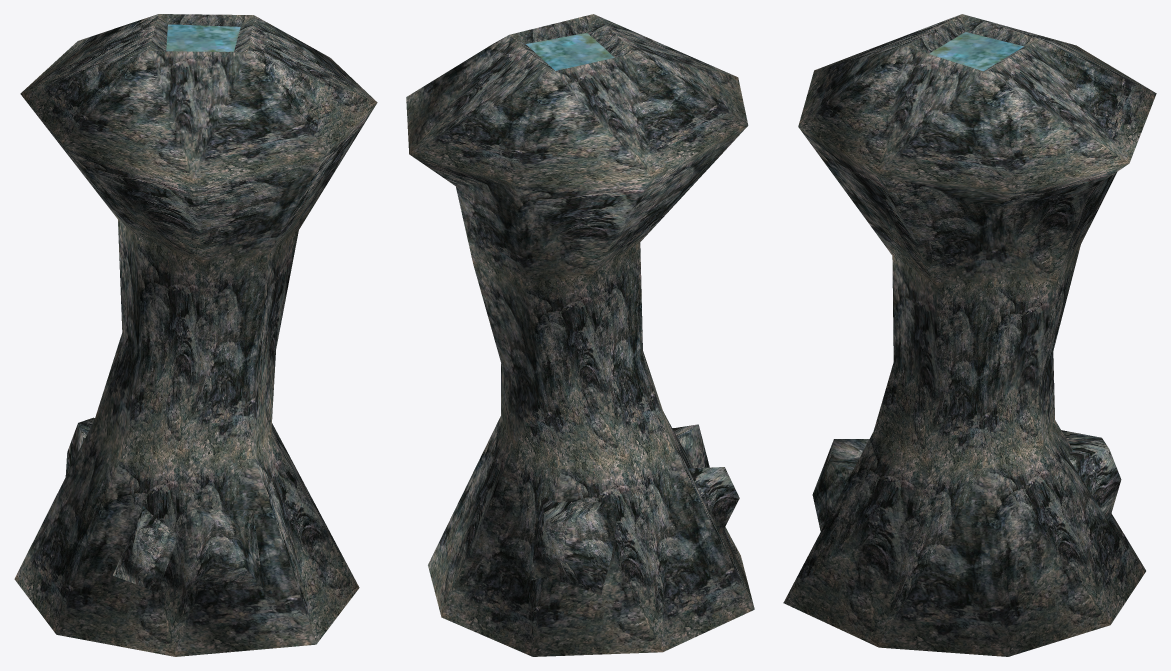
Rendered from rock_crystl_geyser_med_l3.fbx.
3 views of the same model, side by side, from view 1: azimuth 30°, elevation 25°; view 2: azimuth 150°, elevation 25°; view 3: azimuth 270°, elevation 25° (orthographic).
Visible parts, largest first — view 1: mesh_node; view 2: mesh_node; view 3: mesh_node.
Boxes of the visible parts, left/top/right/bottom form: mesh_node: left=14, top=14, right=377, bottom=656; mesh_node: left=406, top=14, right=754, bottom=656; mesh_node: left=783, top=14, right=1156, bottom=656.
Size of the model in its own units: 13.8 by 23.11 by 14.15.
